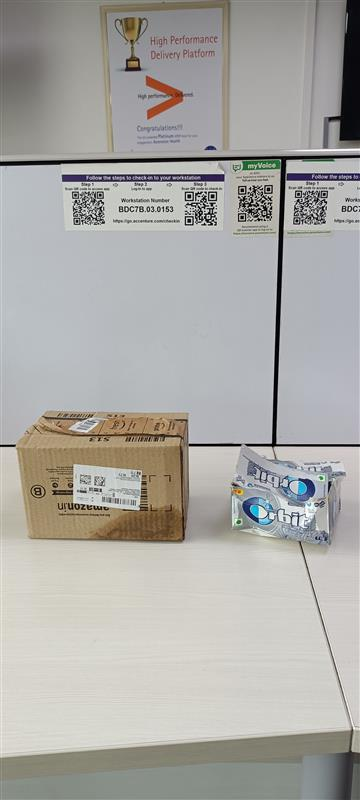box: (21, 408, 193, 545)
normal_hole: (92, 506, 186, 541)
